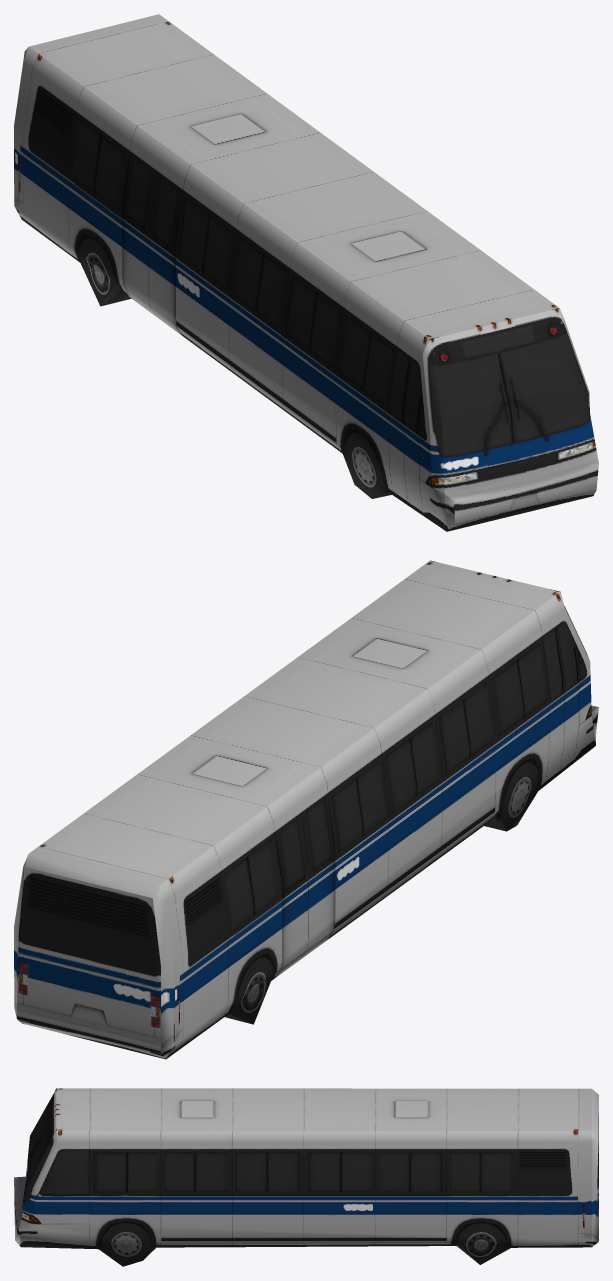
The model's file is City_Bus_Optimized.fbx.
3 renders of one model, top to bottom at view 1: azimuth 30°, elevation 25°; view 2: azimuth 150°, elevation 25°; view 3: azimuth 270°, elevation 25°, orthographic. The views are drawn at different scales.
Visible parts, largest first — view 1: City_Bus_Low; view 2: City_Bus_Low; view 3: City_Bus_Low.
Part boxes in pixels (<box>): City_Bus_Low: <box>14,14,598,531</box>; City_Bus_Low: <box>14,560,598,1059</box>; City_Bus_Low: <box>14,1088,598,1266</box>.
Bounding box in the file's own units: 220 × 262 × 1043.
